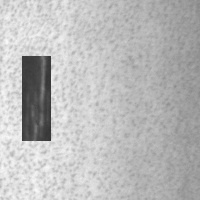pitted_surface: (1, 3, 195, 195)
scratches: (22, 56, 51, 141)
